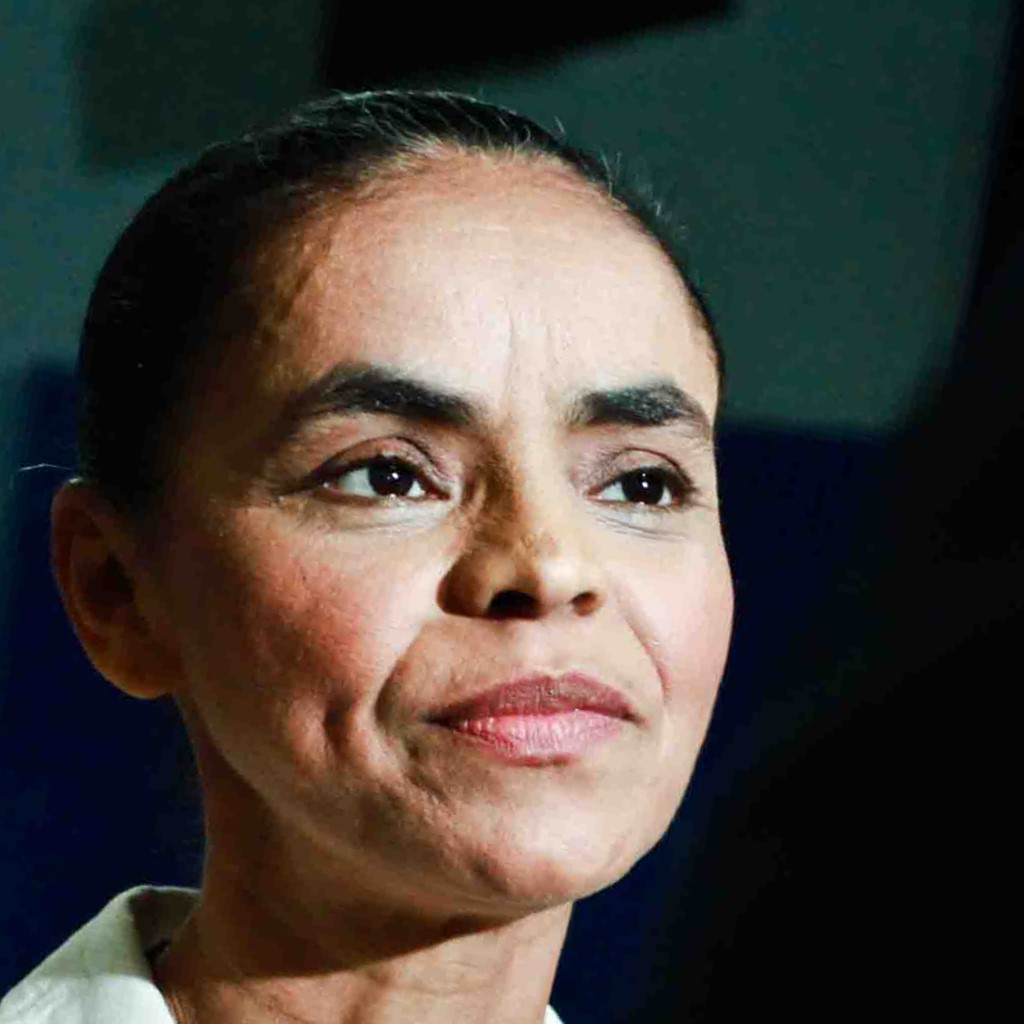sin_mascara: (185, 181, 743, 916)
